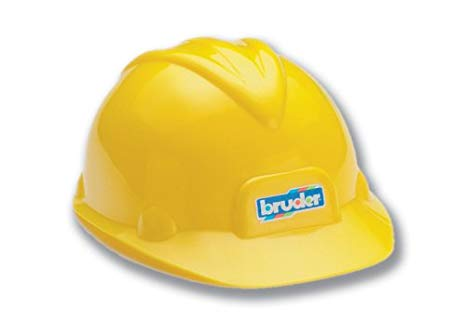elmetto: (55, 33, 424, 295)
